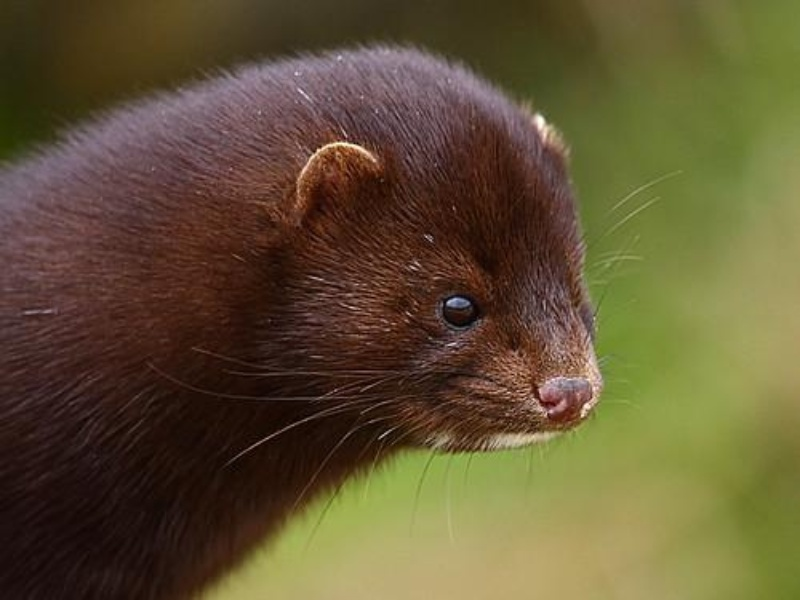minkish: (1, 42, 610, 597)
